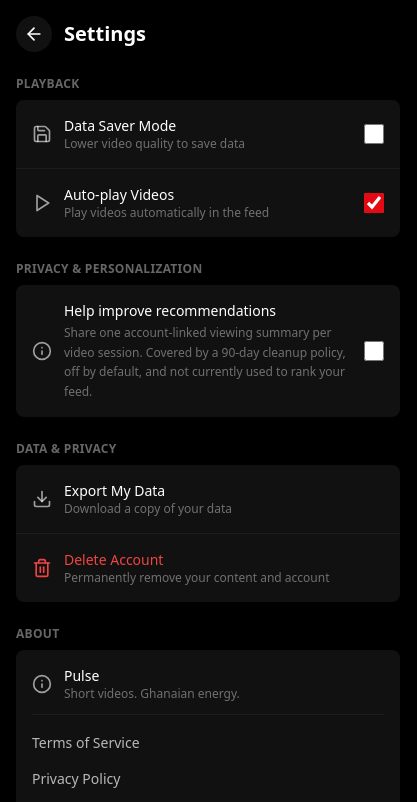
it: SettingsScreen › persists a toggle change to localStorage
The width and height of the screenshot is (417, 802).
What coordinates should you click on to do the following:
click the checkbox labelled "Data Saver Mode Lower video quality to save data"
I would click on:
 (374, 134)
Its box is [364, 124, 384, 144].
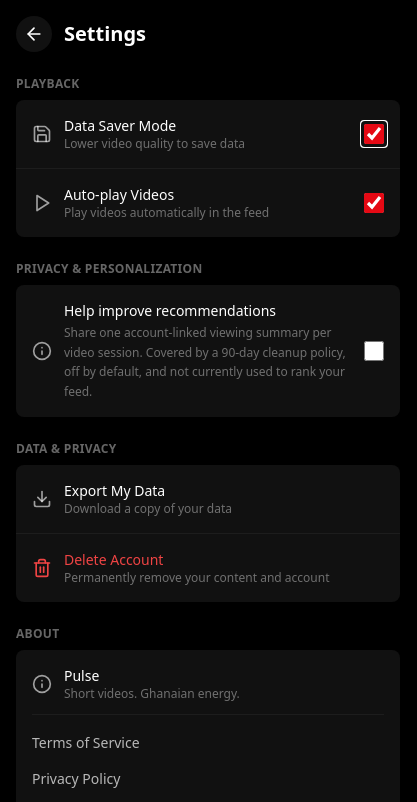
Expected: the checkbox labelled "Data Saver Mode Lower video quality to save data" is checked, [364, 124, 384, 144]
